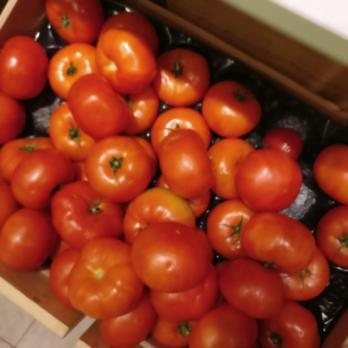Tomato: (0, 136, 348, 348), (7, 0, 255, 155)
